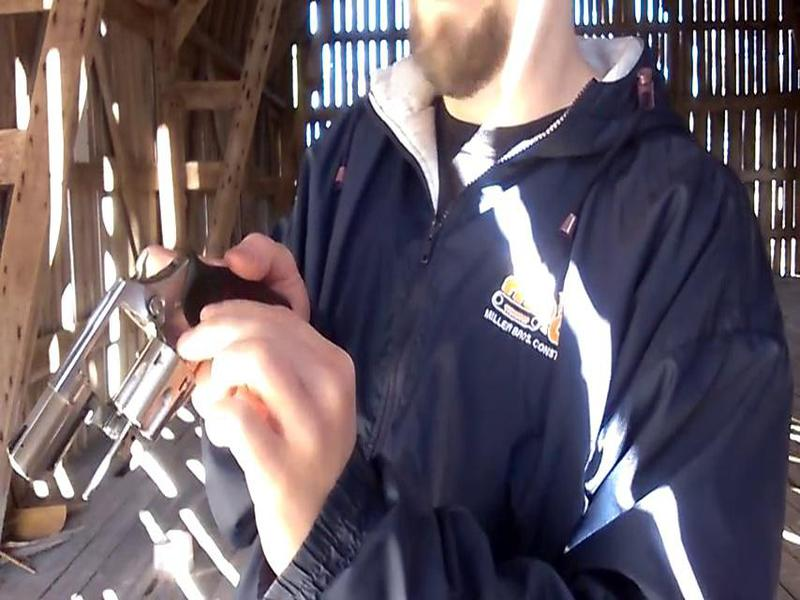Revolver: (7, 235, 312, 486)
